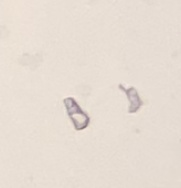microplastic: (64, 96, 90, 130), (118, 83, 143, 113)
